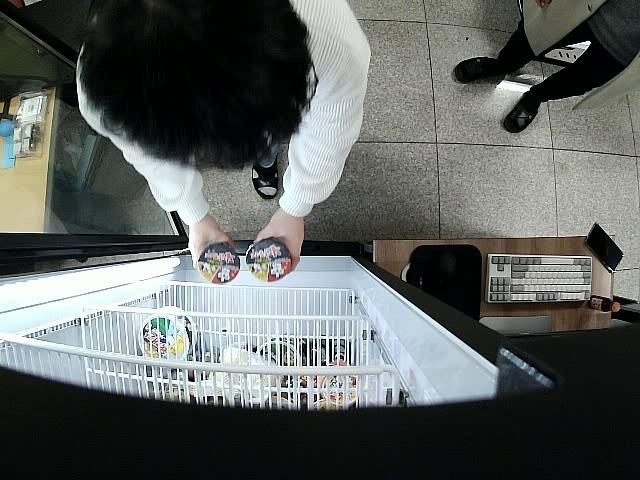08_buldak_S: (246, 238, 293, 284), (199, 242, 240, 283)
